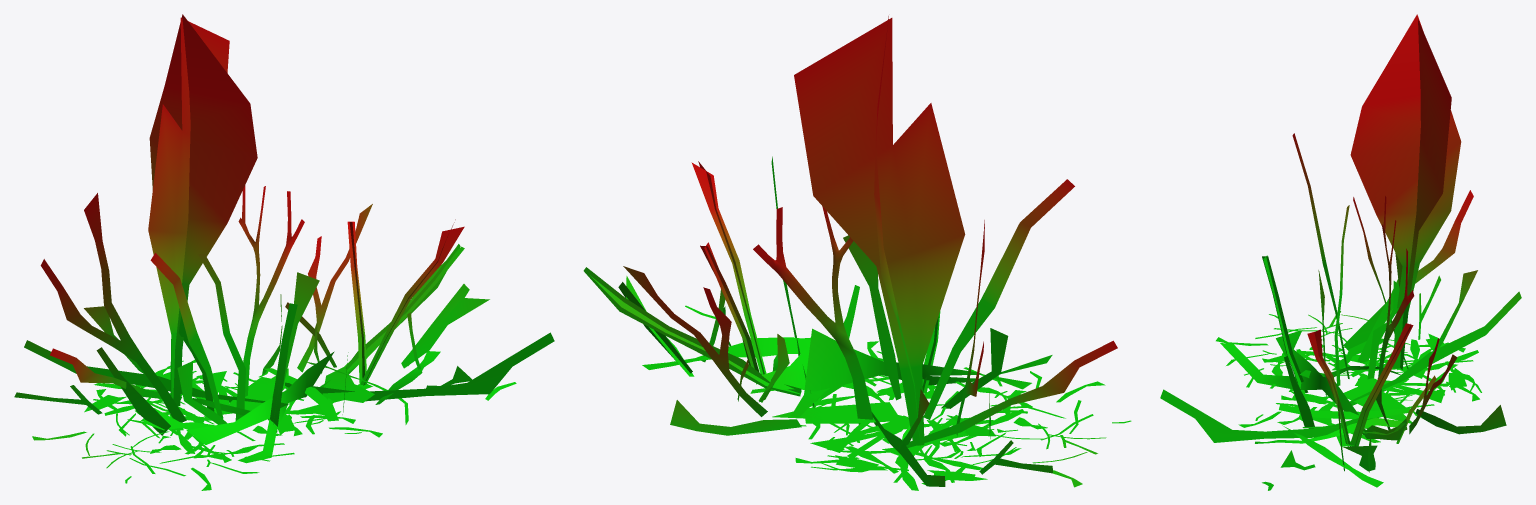
The model's file is Dead Shrubs_LOD1_Var11_vdknbbuha.fbx.
3 views of the same model, side by side, from view 1: azimuth 30°, elevation 25°; view 2: azimuth 150°, elevation 25°; view 3: azimuth 270°, elevation 25° (orthographic). The views are drawn at different scales.
Parts seen in each view (by area): view 1: _mf5q_Var11_LOD1; view 2: _mf5q_Var11_LOD1; view 3: _mf5q_Var11_LOD1.
Part boxes in pixels (x1,y1,x2,y2): _mf5q_Var11_LOD1: (14,14,554,490); _mf5q_Var11_LOD1: (583,16,1131,490); _mf5q_Var11_LOD1: (1160,14,1521,490).
Size of the model in its own units: 63.82 by 54.06 by 47.57.
